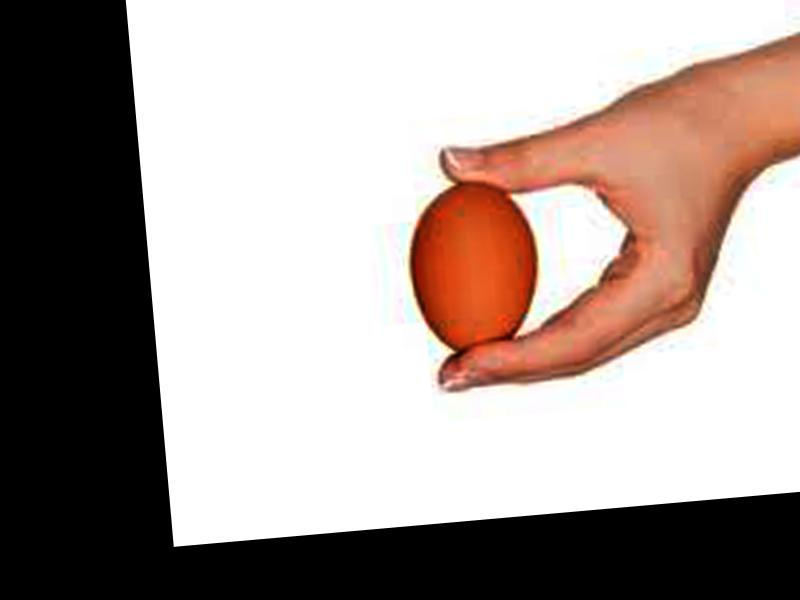Eggs: (404, 176, 542, 366)
